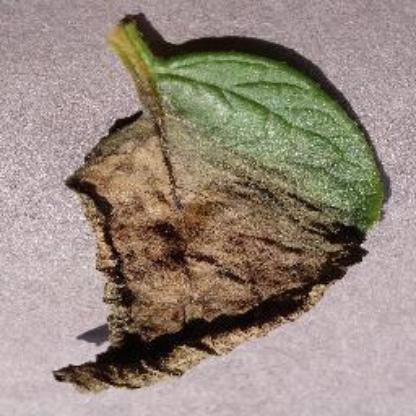Late-Blight: (29, 7, 393, 394)
